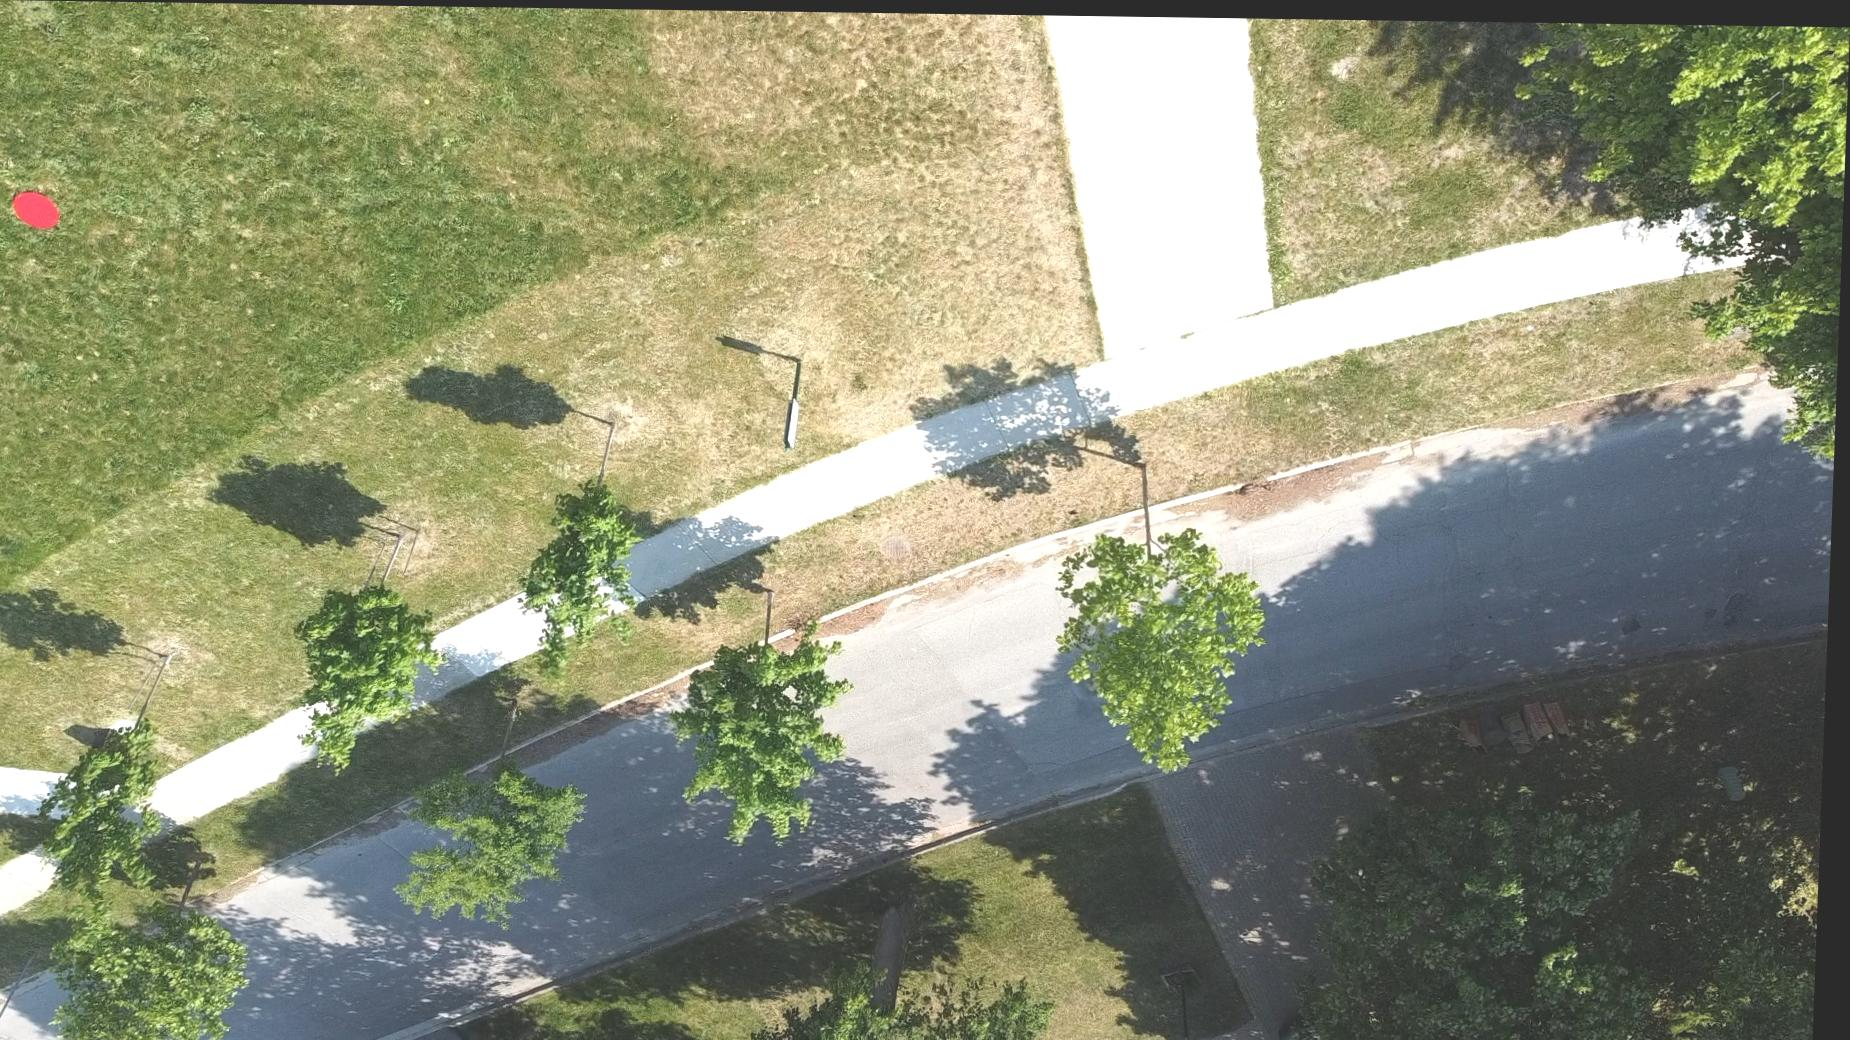Red: (14, 190, 64, 231)
